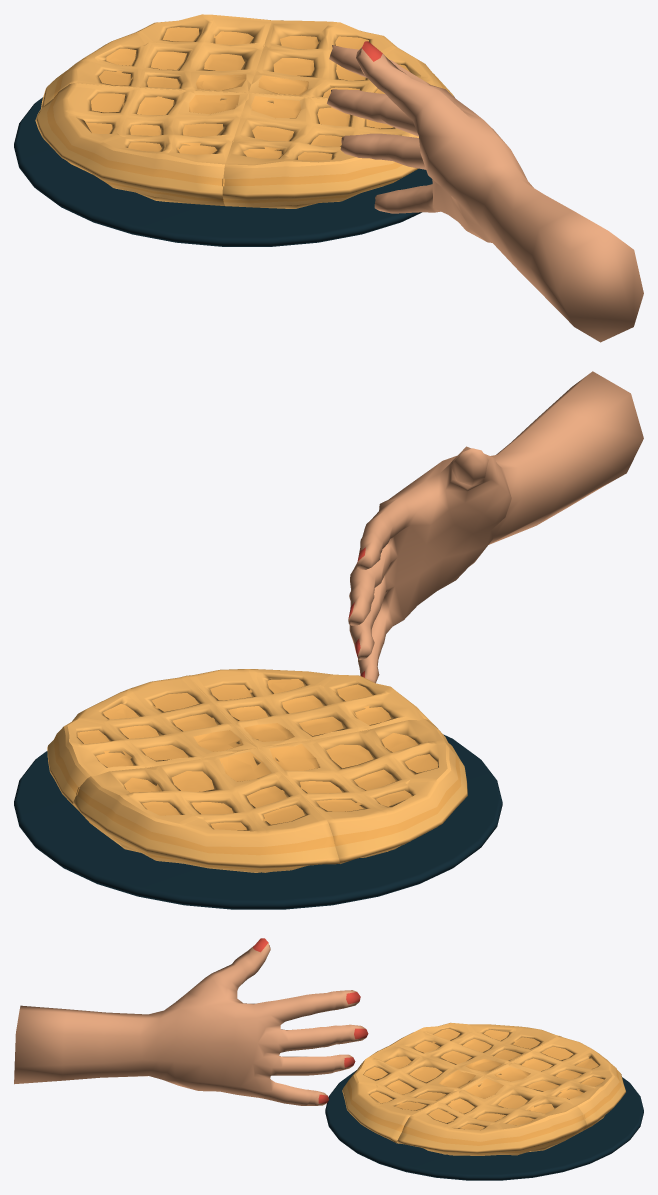
Rendered from el-tabak-waffle.fbx.
3 renders of one model, top to bottom at view 1: azimuth 30°, elevation 25°; view 2: azimuth 150°, elevation 25°; view 3: azimuth 270°, elevation 25°, orthographic. The views are drawn at different scales.
Visible parts, largest first — view 1: WAFFLE.002, El, Cylinder; view 2: WAFFLE.002, El, Cylinder; view 3: WAFFLE.002, El, Cylinder.
Boxes of the visible parts, x1,y1,x2,y2 form: WAFFLE.002: (35, 14, 454, 208); El: (327, 41, 643, 342); Cylinder: (14, 97, 432, 246); WAFFLE.002: (47, 669, 467, 872); El: (348, 371, 643, 683); Cylinder: (14, 734, 502, 909); WAFFLE.002: (342, 1022, 625, 1155); El: (14, 938, 368, 1105); Cylinder: (325, 1070, 643, 1180).
Size of the model in its own units: 125 by 70.73 by 249.
